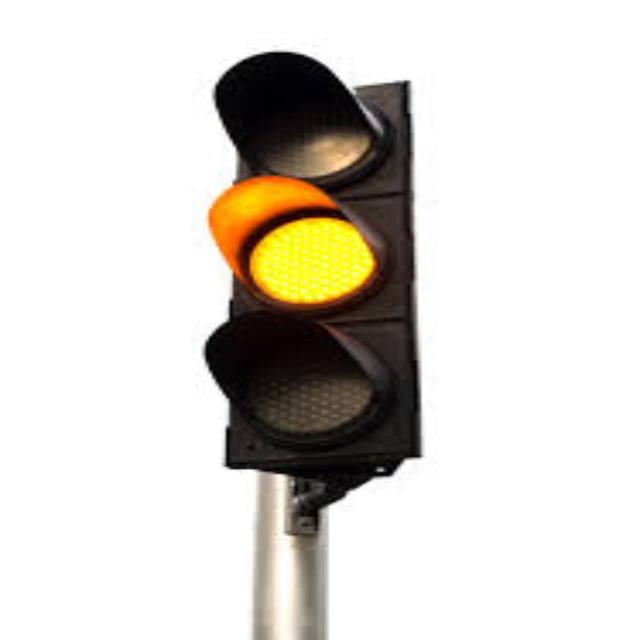yellow_light: (231, 205, 398, 307)
